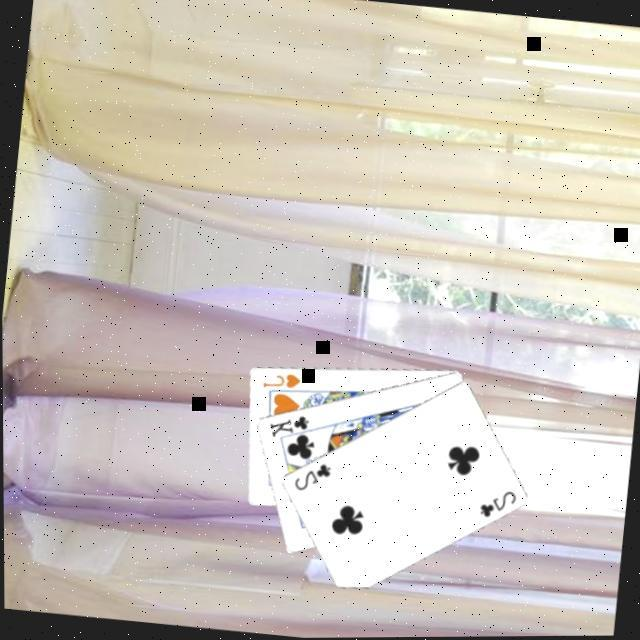2C: (474, 486, 519, 524), (290, 460, 334, 498)
JH: (258, 369, 303, 395)
KC: (264, 412, 319, 448)
